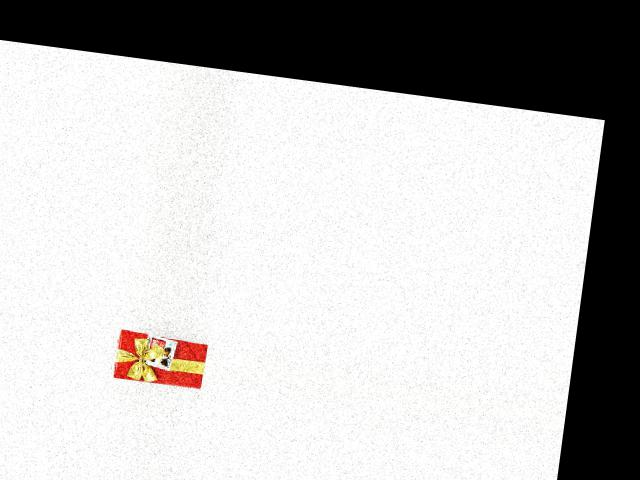chocolate: (109, 329, 207, 393)
